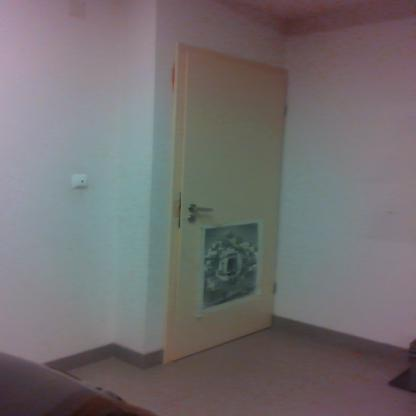door: (186, 50, 275, 348)
hinged: (271, 280, 278, 294), (284, 102, 288, 116)
lever: (192, 205, 216, 214)
